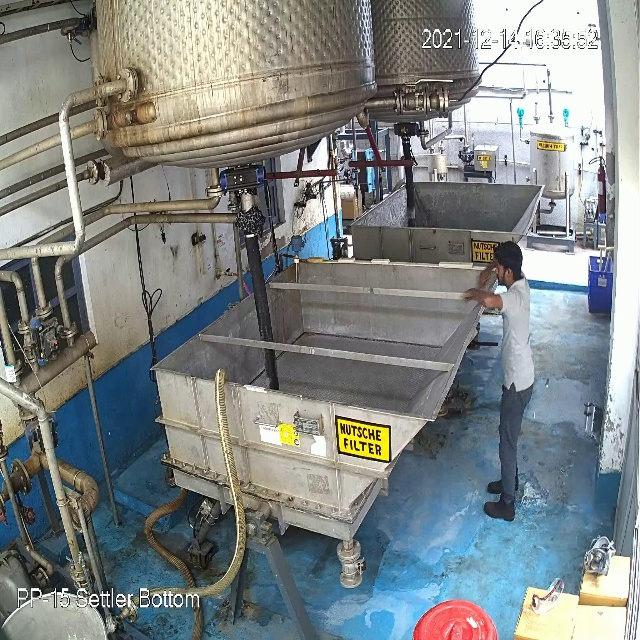Sin_guantes: (463, 285, 503, 318)
Sin_mascara: (495, 269, 512, 285)
